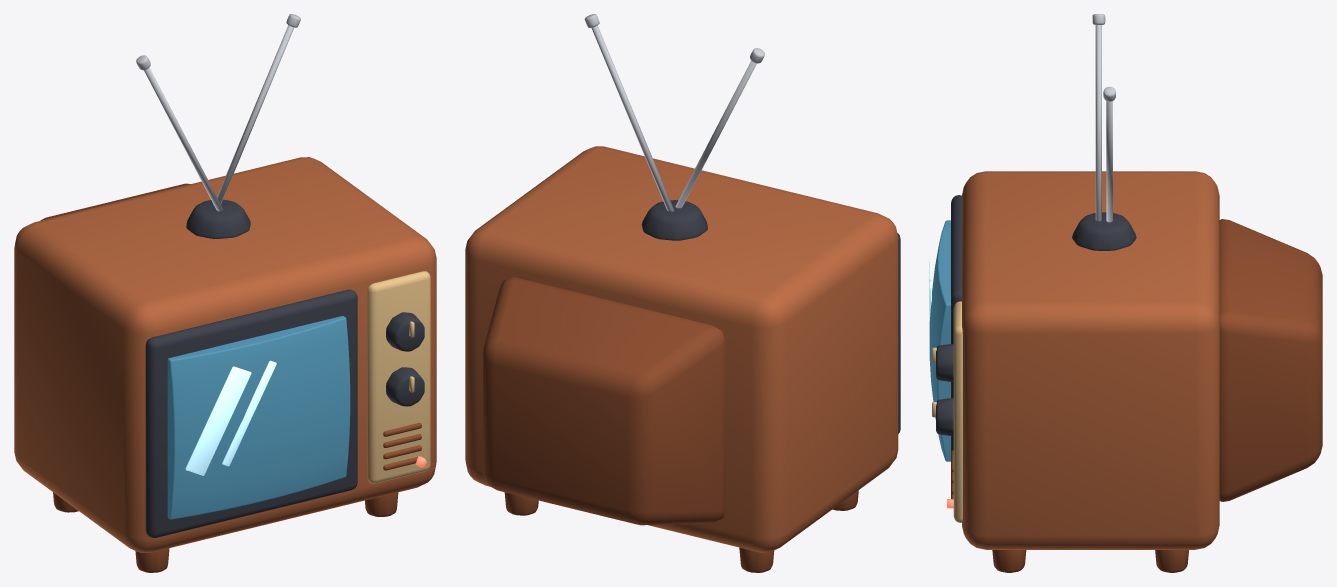
Rendered from television.glb.
The picture shows the model from 3 angles, left to right: view 1: azimuth 30°, elevation 25°; view 2: azimuth 150°, elevation 25°; view 3: azimuth 270°, elevation 25°; orthographic projection. The views are drawn at different scales.
Visible parts, largest first — view 1: crt_case, crt_screen, crt_bezel, crt_panel, crt_glare0, crt_ant_base, crt_ant1, crt_knob0, crt_knob1, crt_ant0, crt_glare1, crt_foot-1-1 (+1 smaller); view 2: crt_case, crt_back, crt_ant_base, crt_ant1, crt_ant0, crt_foot-11, crt_foot11, crt_bezel; view 3: crt_case, crt_back, crt_screen, crt_panel, crt_ant_base, crt_bezel, crt_ant0, crt_ant1, crt_foot1-1, crt_foot11, crt_knob0, crt_knob1.
Boxes of the visible parts, x1,y1,x2,y2 form: crt_case: [14, 157, 436, 552]; crt_screen: [167, 316, 350, 519]; crt_bezel: [145, 289, 357, 537]; crt_panel: [367, 271, 430, 483]; crt_glare0: [185, 366, 251, 475]; crt_ant_base: [186, 199, 250, 238]; crt_ant1: [213, 25, 293, 205]; crt_knob0: [386, 312, 424, 351]; crt_knob1: [386, 367, 424, 406]; crt_ant0: [144, 67, 223, 211]; crt_glare1: [222, 360, 276, 466]; crt_foot-1-1: [135, 548, 169, 572]; crt_case: [465, 146, 898, 552]; crt_back: [483, 277, 725, 525]; crt_ant_base: [641, 200, 707, 240]; crt_ant1: [591, 25, 674, 211]; crt_ant0: [675, 60, 756, 208]; crt_foot-11: [739, 547, 774, 572]; crt_foot11: [504, 492, 538, 515]; crt_bezel: [897, 233, 900, 433]; crt_case: [962, 171, 1219, 549]; crt_back: [1219, 219, 1322, 501]; crt_screen: [929, 220, 950, 461]; crt_panel: [953, 301, 962, 522]; crt_ant_base: [1072, 212, 1136, 250]; crt_bezel: [951, 195, 961, 451]; crt_ant0: [1095, 25, 1101, 221]; crt_ant1: [1106, 101, 1112, 222]; crt_foot1-1: [992, 550, 1026, 572]; crt_foot11: [1155, 550, 1188, 572]; crt_knob0: [936, 344, 953, 381]; crt_knob1: [936, 398, 953, 435].
Size of the model in its own units: 1.3 by 1.88 by 1.45.
